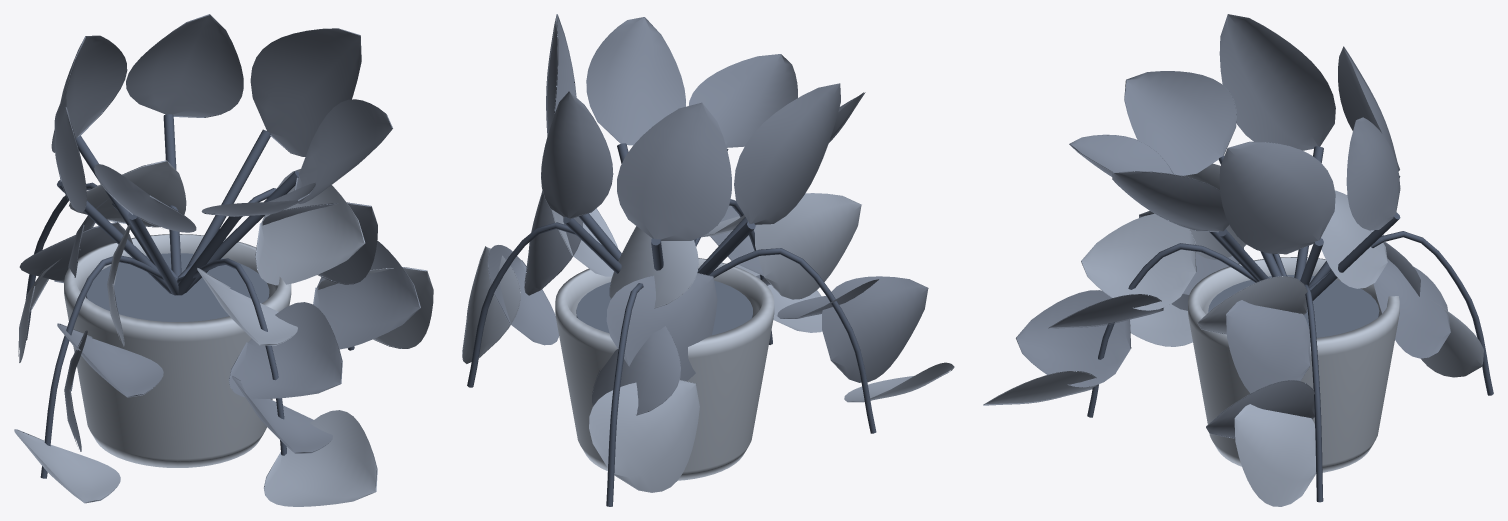
Rendered from plant-pothos-lite.glb.
3 renders of one model, left to right at view 1: azimuth 30°, elevation 25°; view 2: azimuth 150°, elevation 25°; view 3: azimuth 270°, elevation 25°, orthographic. The views are drawn at different scales.
Visible parts, largest first — view 1: soft, light, body, dark, glass; view 2: soft, light, body, dark, glass; view 3: soft, light, body, dark, glass.
Boxes of the visible parts, x1,y1,x2,y2 form: soft: (19,14,420,453); light: (14,160,433,506); body: (64,234,291,467); dark: (25,114,354,478); glass: (86,253,269,321); soft: (487,14,928,415); light: (462,193,954,492); body: (555,258,774,480); dark: (467,143,876,506); glass: (576,280,752,335); soft: (1016,14,1450,438); light: (983,163,1483,506); body: (1188,257,1399,472); dark: (1087,146,1493,502); glass: (1208,275,1379,337).
Bounding box in the file's own units: 0.6531 × 0.55 × 0.6952.
